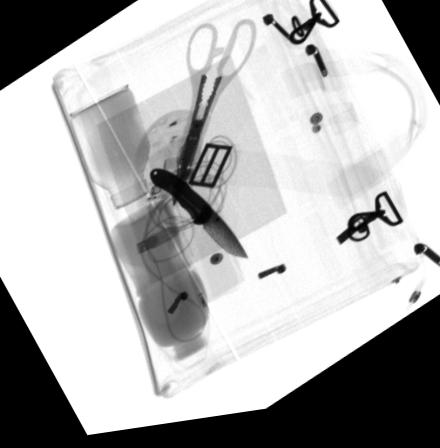Knife: (149, 172, 246, 266)
Scissors: (171, 24, 256, 210)
